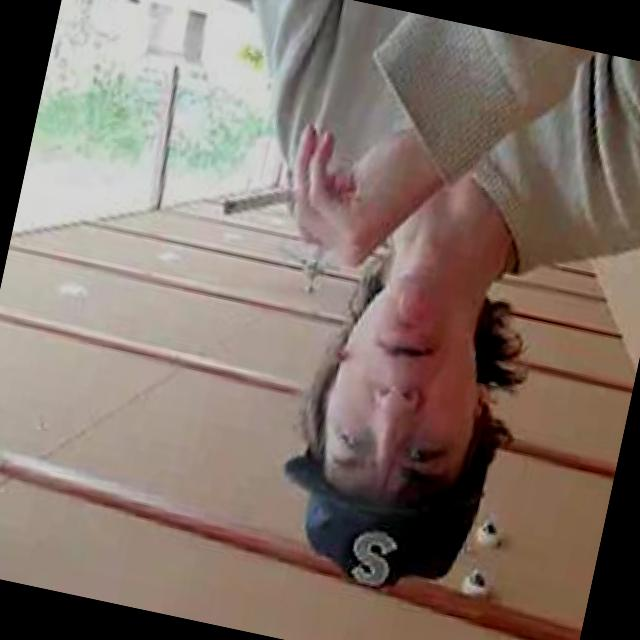smoke: (200, 152, 318, 252)
